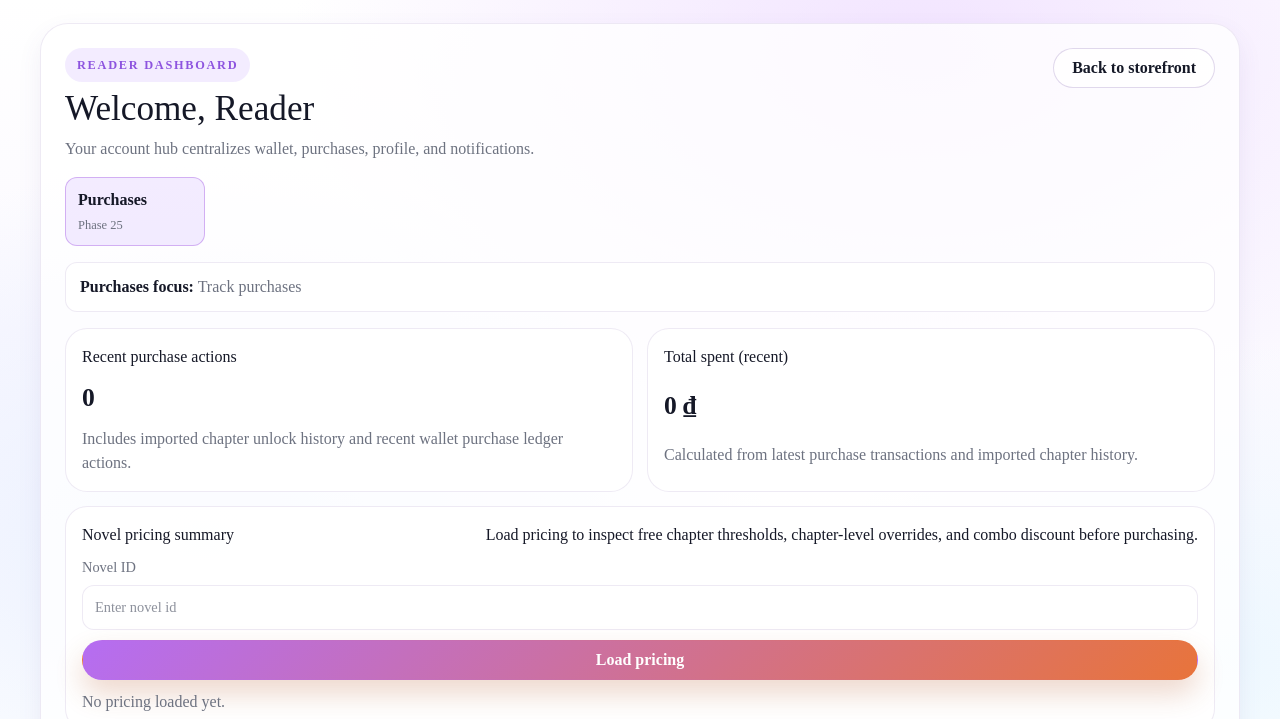
DashboardView purchases DOM › renders pricing summary and combo UI from loaded pricing state
Type "77" into the number field with placeholder "Enter novel id".
click(640, 608); type("77")  # box left=82, top=585, right=1198, bottom=630
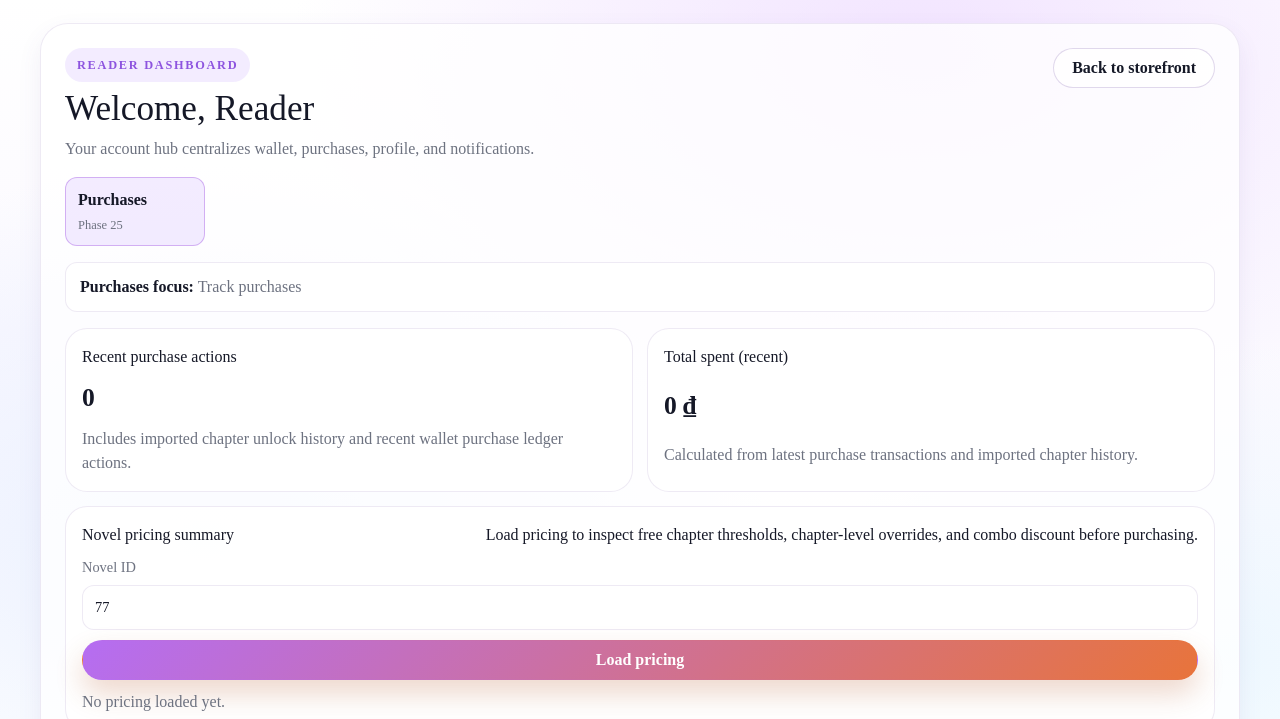
Click the button "Load pricing".
click(640, 660)  # box left=82, top=640, right=1198, bottom=680
(page scrolled)
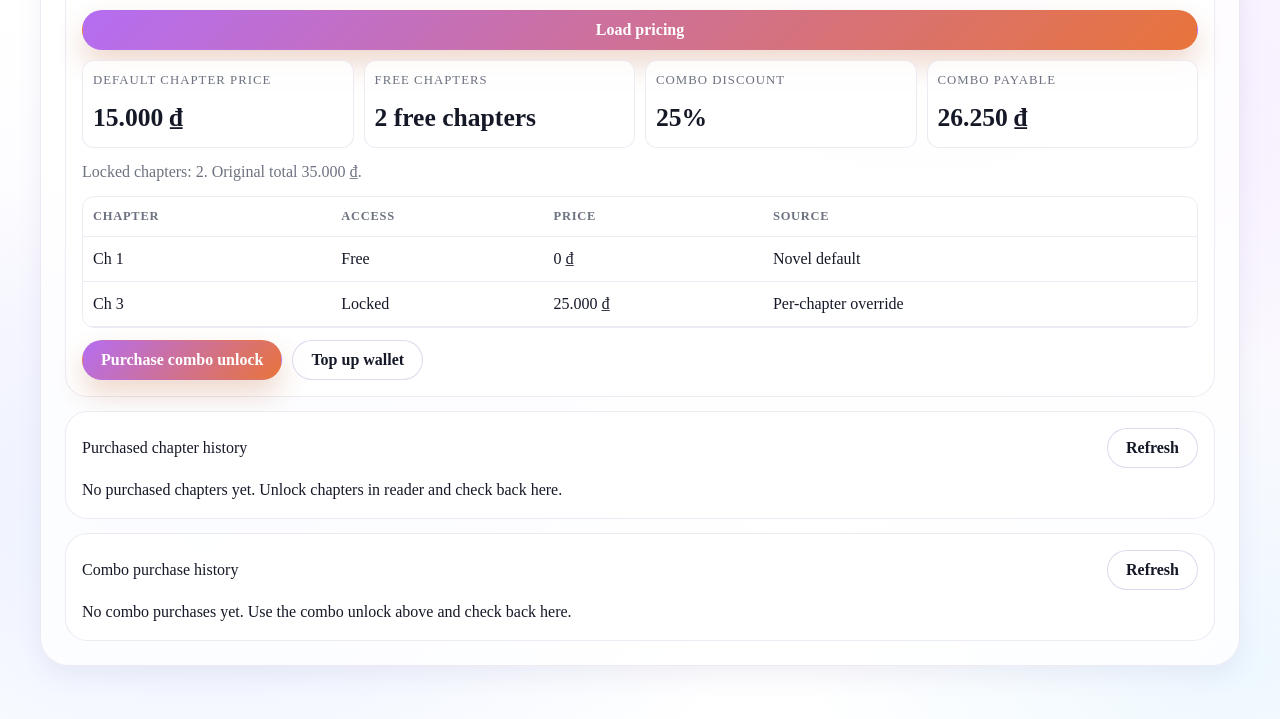
Now the heading "Default chapter price" is shown, box left=93, top=74, right=271, bottom=88
Now the text "2 free chapters" is shown, box left=374, top=103, right=536, bottom=132
Now the text "25%" is shown, box left=656, top=103, right=707, bottom=132
